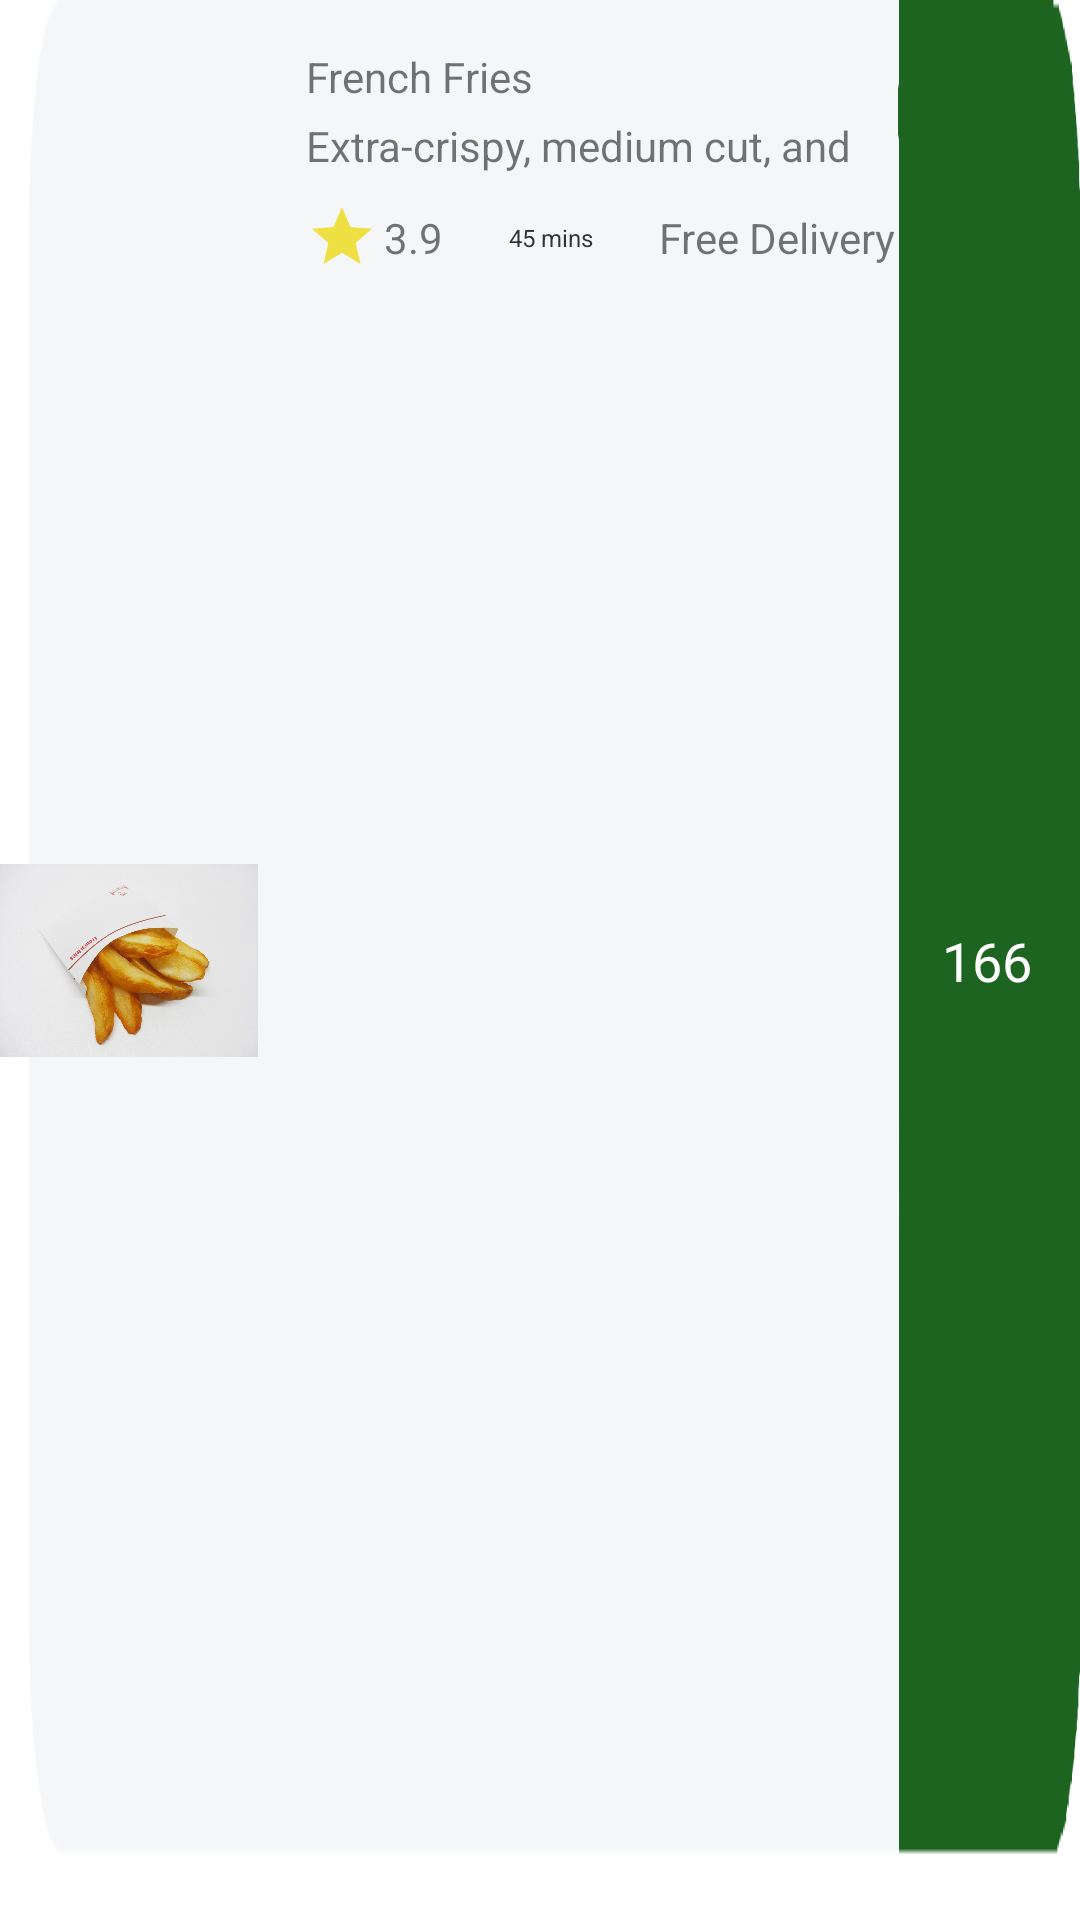

Named icons in this screenshot (1080w x 1920h) and their centers, (x,y):
frenchfries: (129,960)
star rate: (342,235)
